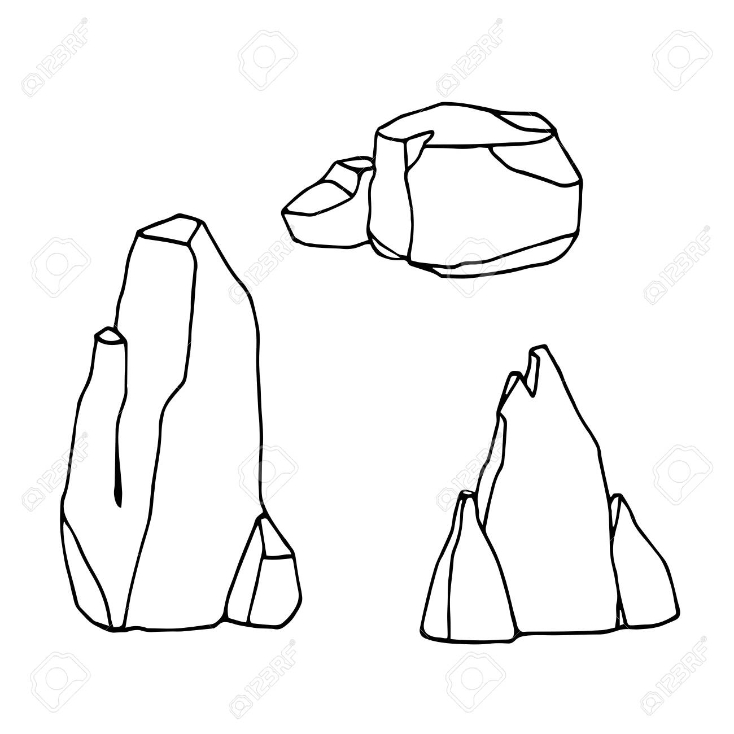stone: (47, 196, 321, 652), (391, 324, 699, 662), (279, 73, 596, 289)
